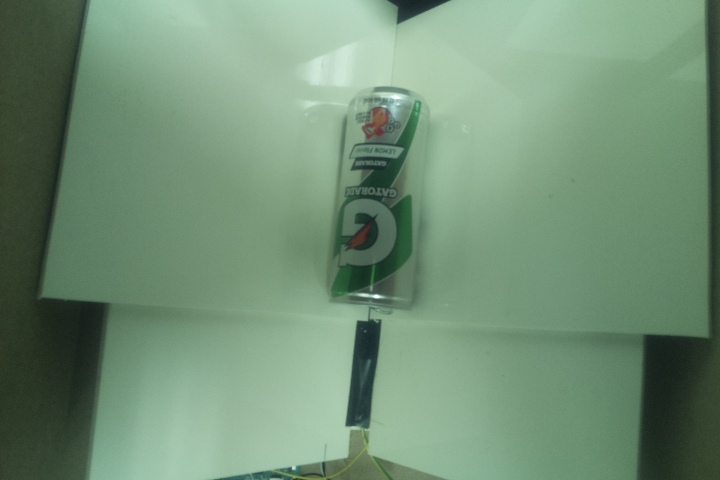can: (320, 84, 431, 316)
